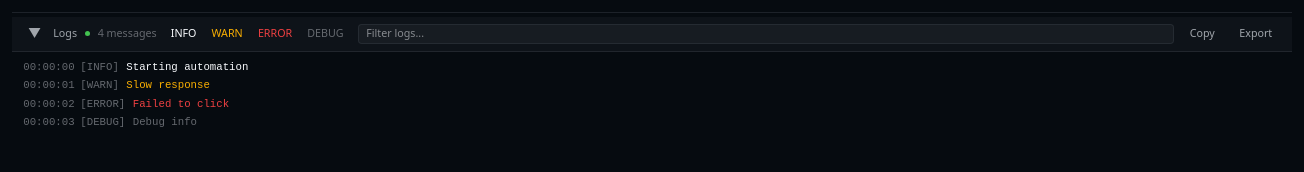
it: LogViewer › level and text filters compose with AND logic
Click the button with test id "level-toggle-WARN" at {"x": 227, "y": 34}, box [205,24,249,43]
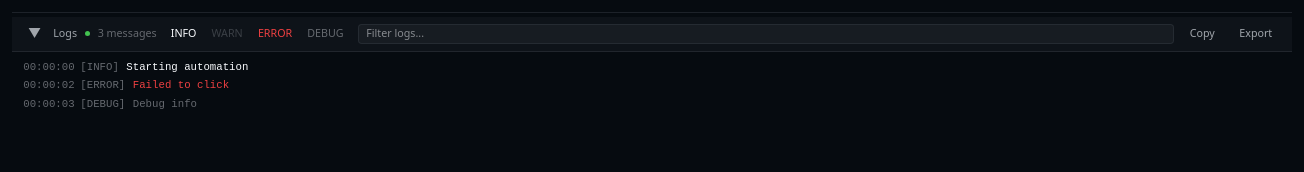
Type "start" into the field with test id "log-filter" at {"x": 766, "y": 34}, box [358,24,1174,44]
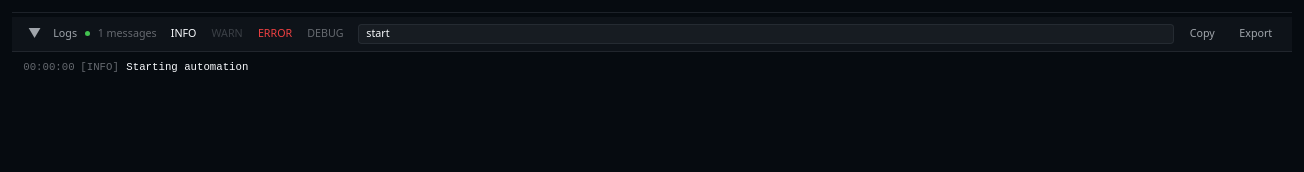
Expected: the text "Starting automation" is shown, [126,61,248,73]
Expected: the text "1 messages" is shown, [98,25,157,42]
